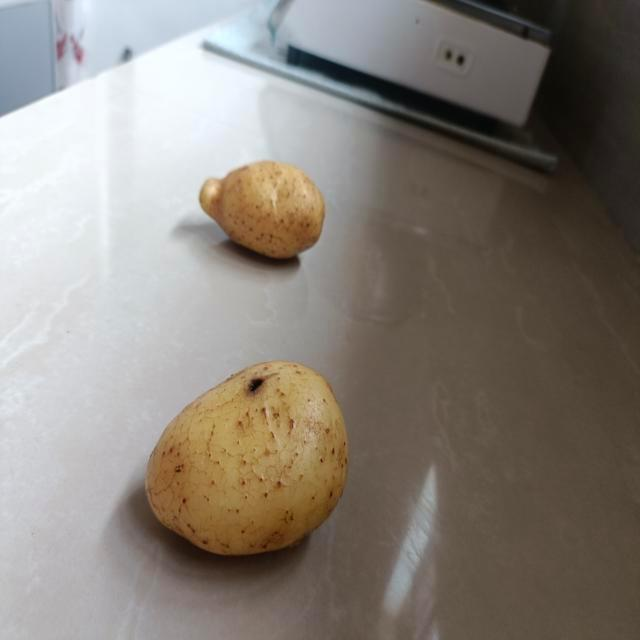potato: (137, 355, 357, 564), (193, 156, 327, 264)
